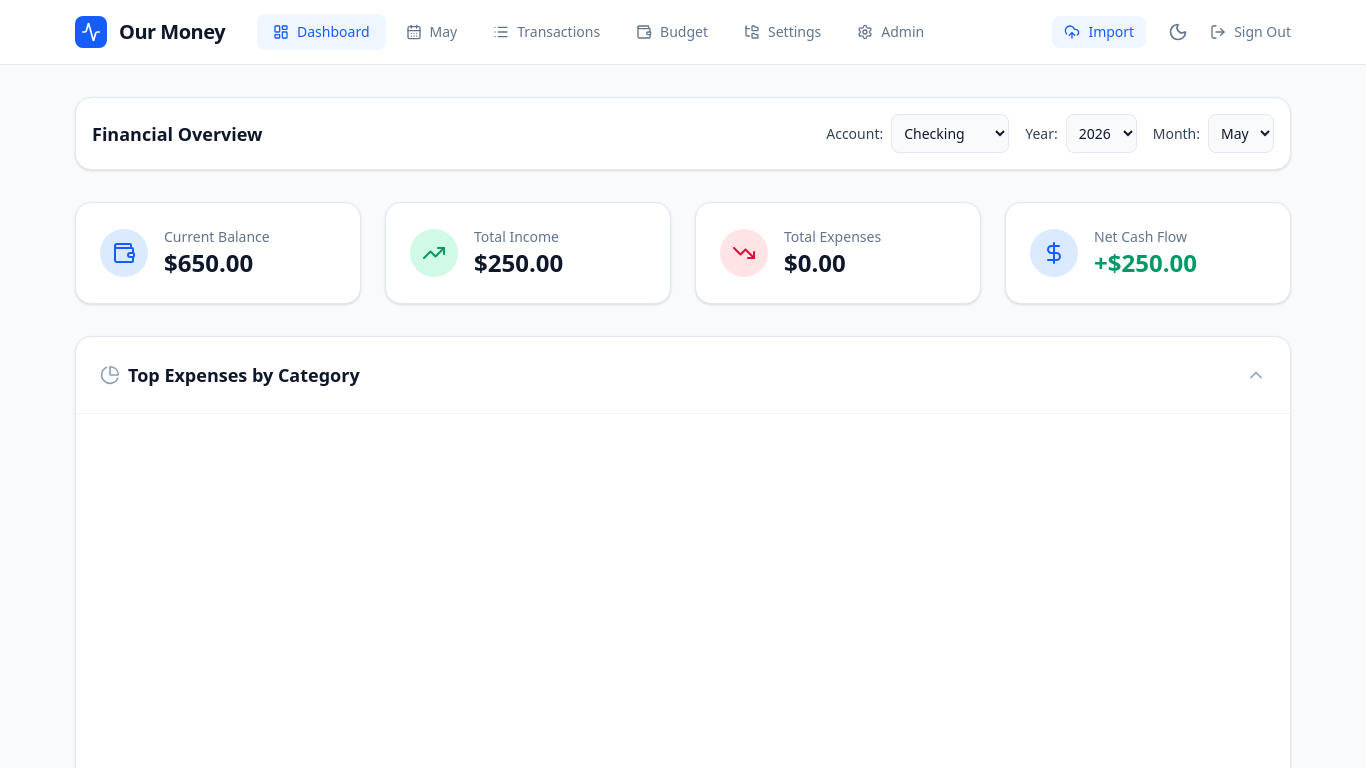
Test case: App Component › filters transactions by selected account
This screenshot has width=1366, height=768.
Expected: the heading "Our Money" is shown, x1=119 y1=18 x2=225 y2=46
Click the button "Transactions" at (547, 32), box x1=477 y1=14 x2=616 y2=50
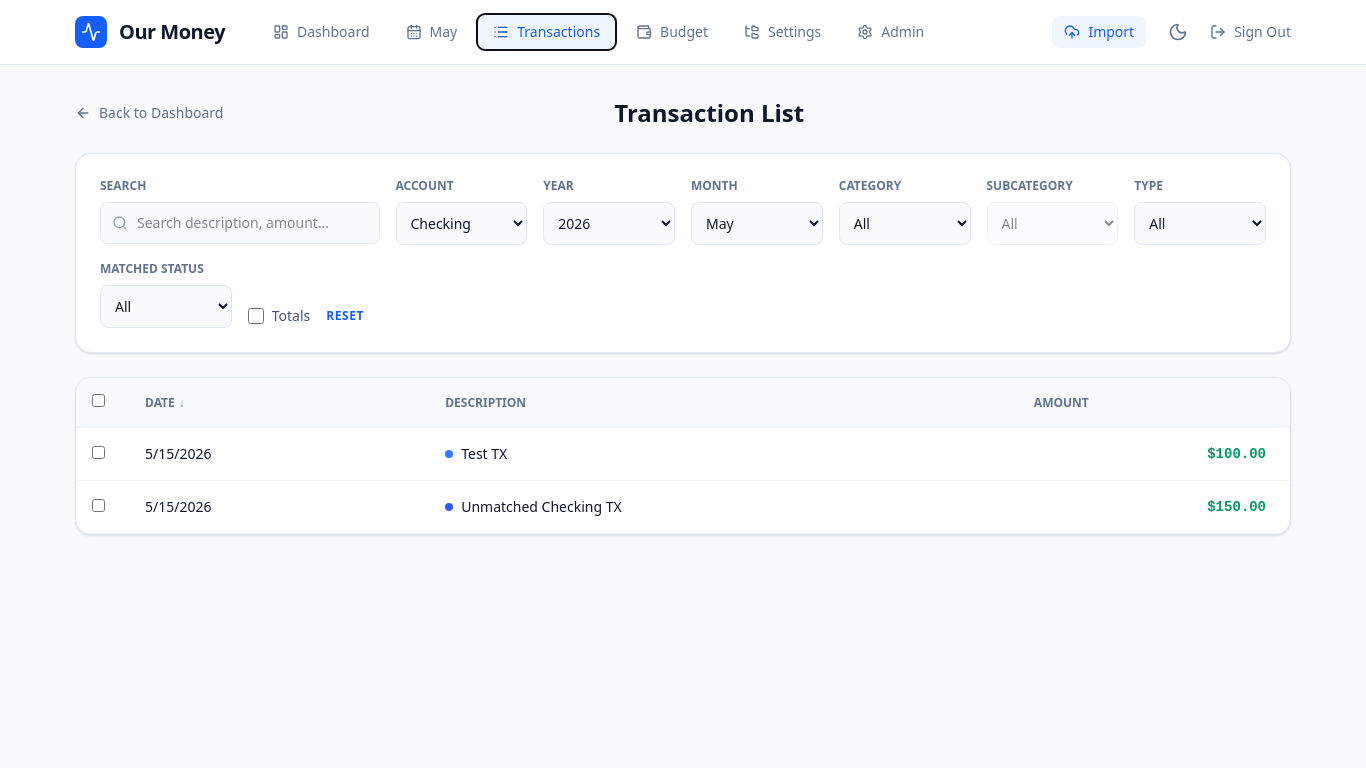
// Change account to 'Savings' via the Transactions dropdown
Select "Savings" in the dropdown labelled "Account" at (461, 224), box x1=396 y1=202 x2=527 y2=245
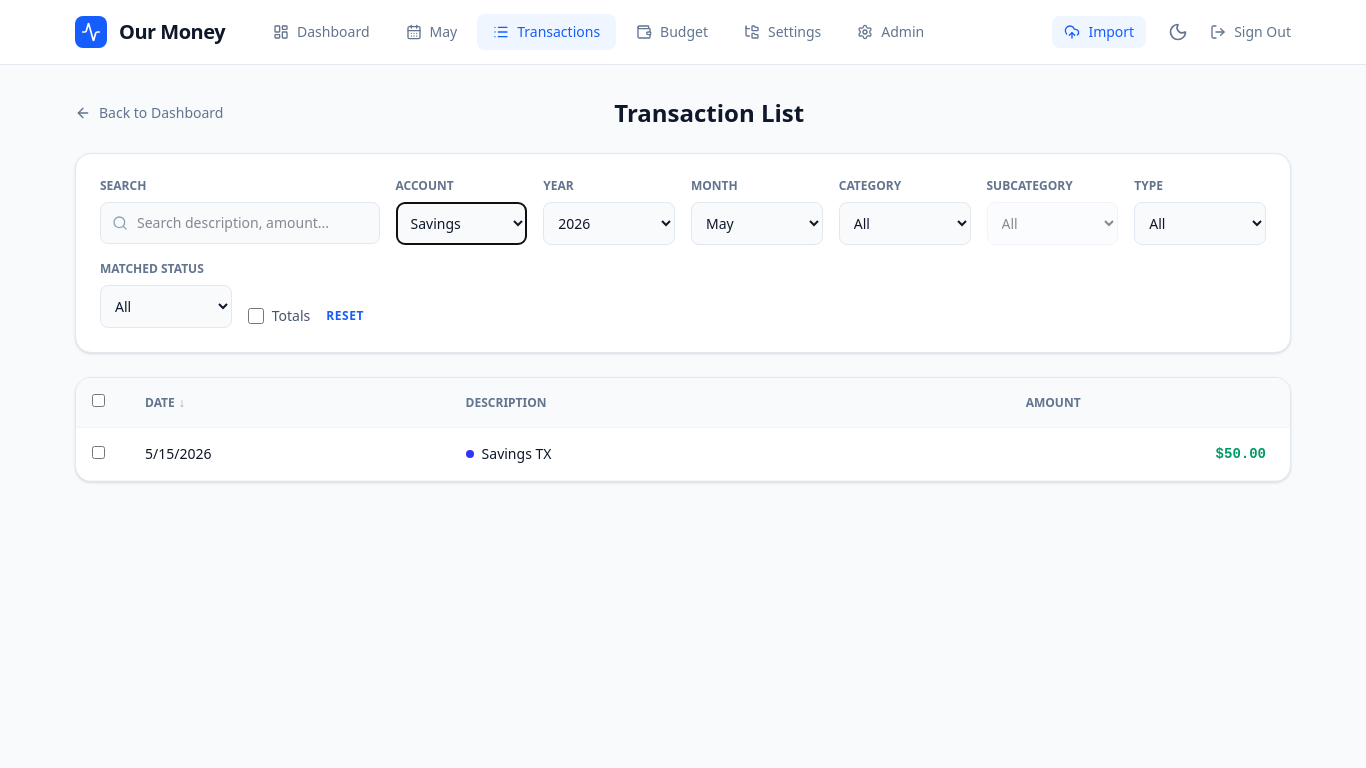
Expected: the text "Test TX" is not shown
